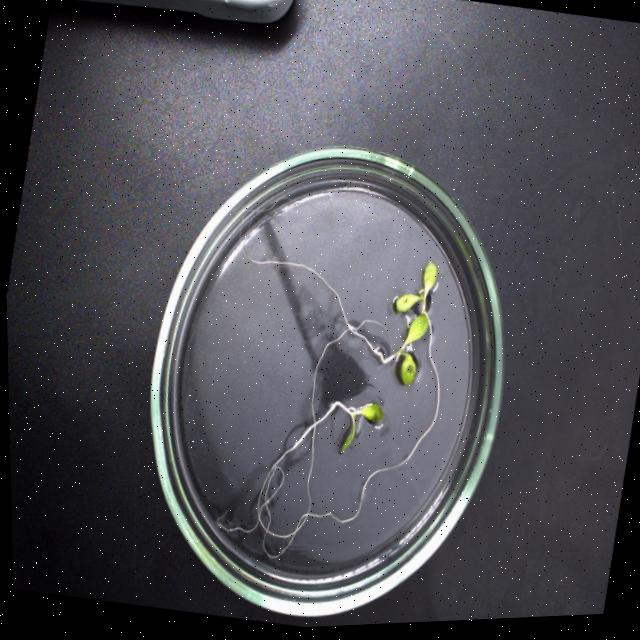leaf: (398, 312, 432, 390)
root: (212, 322, 443, 562)
steb: (291, 396, 348, 453)
